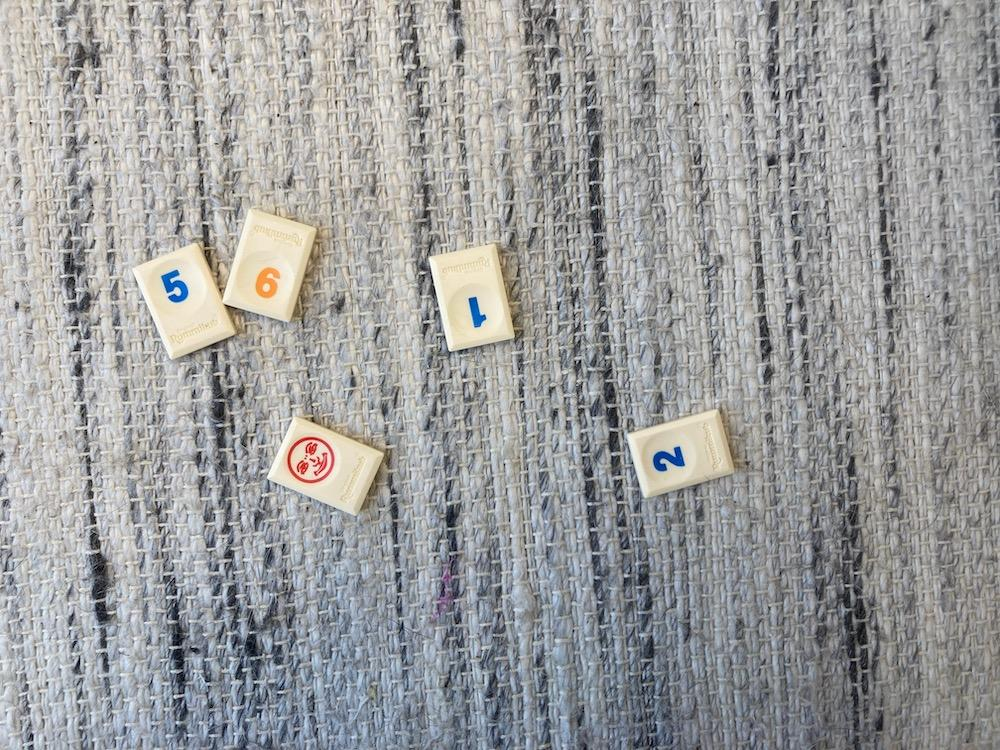blue_1: (431, 244, 514, 352)
blue_2: (627, 410, 734, 498)
blue_5: (133, 244, 234, 359)
joker: (268, 416, 383, 516)
orange_9: (223, 209, 316, 322)
